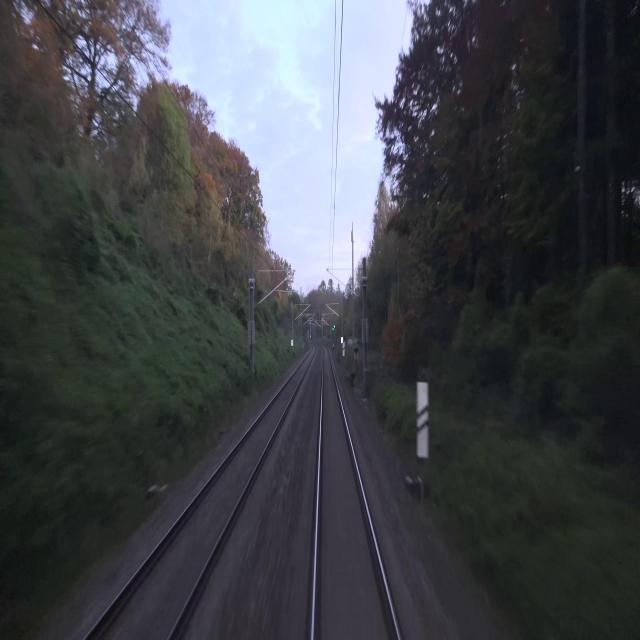rail-track: (89, 348, 314, 639), (315, 349, 397, 639)
